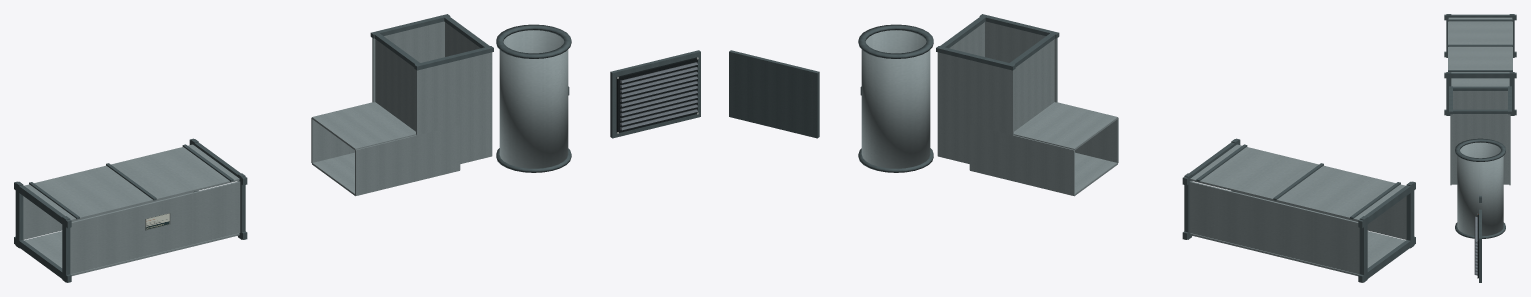
The model's file is PZ_Ventilation_Duct_Modules.glb.
3 views of the same model, side by side, from view 1: azimuth 30°, elevation 25°; view 2: azimuth 150°, elevation 25°; view 3: azimuth 270°, elevation 25° (orthographic). The views are drawn at different scales.
Parts seen in each view (by area): view 1: DUCT_RoundTube_HollowWall, DUCT_Rect_Left, DUCT_Rect_Top, DUCT_ElbowVerticalFront, DUCT_ElbowHorizontalSide_-0.26, DUCT_ElbowHorizontalTop, DUCT_GrilleDarkAperture, DUCT_ElbowVerticalSide_0.39, DUCT_ElbowVerticalBack, DUCT_GrilleBacking, DUCT_Rect_Bottom, DUCT_Rect_Right (+11 smaller); view 2: DUCT_Rect_Right, DUCT_RoundTube_HollowWall, DUCT_Rect_Top, DUCT_ElbowVerticalBack, DUCT_GrilleBacking, DUCT_ElbowHorizontalSide_0.26, DUCT_ElbowHorizontalTop, DUCT_ElbowVerticalSide_0.39, DUCT_ElbowVerticalFront, DUCT_Rect_Bottom, DUCT_Rect_Left, DUCT_ElbowHorizontalBottom (+10 smaller); view 3: DUCT_RoundTube_HollowWall, DUCT_Rect_Top, DUCT_ElbowVerticalSide_0.87, DUCT_ElbowVerticalSide_0.39, DUCT_Rect_Bottom, DUCT_RoundEndFlange_High, DUCT_Flange_End_Lip_+0.180, DUCT_Flange_Start_Lip_+0.180, DUCT_ElbowExitFlangeX_0.39, DUCT_ElbowExitFlangeX_0.87, DUCT_GrilleBacking, DUCT_RoundEndFlange_Low (+13 smaller).
Boxes of the visible parts, left/top/right/bottom form: DUCT_RoundTube_HollowWall: left=499, top=30, right=568, bottom=168; DUCT_Rect_Left: left=70, top=181, right=240, bottom=274; DUCT_Rect_Top: left=24, top=144, right=239, bottom=221; DUCT_ElbowVerticalFront: left=416, top=52, right=492, bottom=163; DUCT_ElbowHorizontalSide_-0.26: left=355, top=125, right=460, bottom=195; DUCT_ElbowHorizontalTop: left=312, top=102, right=416, bottom=149; DUCT_GrilleDarkAperture: left=616, top=57, right=697, bottom=132; DUCT_ElbowVerticalSide_0.39: left=375, top=39, right=415, bottom=131; DUCT_ElbowVerticalBack: left=372, top=21, right=444, bottom=102; DUCT_GrilleBacking: left=610, top=50, right=700, bottom=138; DUCT_Rect_Bottom: left=24, top=231, right=239, bottom=275; DUCT_Rect_Right: left=23, top=192, right=192, bottom=239; DUCT_Rect_Right: left=1189, top=181, right=1359, bottom=274; DUCT_RoundTube_HollowWall: left=861, top=30, right=930, bottom=168; DUCT_Rect_Top: left=1190, top=144, right=1405, bottom=221; DUCT_ElbowVerticalBack: left=937, top=52, right=1013, bottom=163; DUCT_GrilleBacking: left=729, top=50, right=819, bottom=138; DUCT_ElbowHorizontalSide_0.26: left=969, top=125, right=1074, bottom=195; DUCT_ElbowHorizontalTop: left=1013, top=102, right=1117, bottom=149; DUCT_ElbowVerticalSide_0.39: left=1014, top=39, right=1054, bottom=131; DUCT_ElbowVerticalFront: left=985, top=21, right=1057, bottom=102; DUCT_Rect_Bottom: left=1190, top=231, right=1405, bottom=275; DUCT_Rect_Left: left=1237, top=192, right=1406, bottom=239; DUCT_ElbowHorizontalBottom: left=970, top=152, right=1117, bottom=196; DUCT_RoundTube_HollowWall: left=1457, top=142, right=1503, bottom=236; DUCT_Rect_Top: left=1448, top=17, right=1512, bottom=72; DUCT_ElbowVerticalSide_0.87: left=1451, top=114, right=1509, bottom=184; DUCT_ElbowVerticalSide_0.39: left=1453, top=91, right=1507, bottom=109; DUCT_Rect_Bottom: left=1451, top=78, right=1509, bottom=86; DUCT_RoundEndFlange_High: left=1455, top=138, right=1505, bottom=161; DUCT_Flange_End_Lip_+0.180: left=1444, top=72, right=1516, bottom=78; DUCT_Flange_Start_Lip_+0.180: left=1444, top=14, right=1516, bottom=20; DUCT_ElbowExitFlangeX_0.39: left=1449, top=86, right=1511, bottom=90; DUCT_ElbowExitFlangeX_0.87: left=1453, top=109, right=1507, bottom=113; DUCT_GrilleBacking: left=1479, top=209, right=1481, bottom=282; DUCT_RoundEndFlange_Low: left=1455, top=222, right=1505, bottom=238.
Bounding box in the file's own units: 4.54 × 0.932 × 0.64.
Materials: 1 (1 with a texture image).
